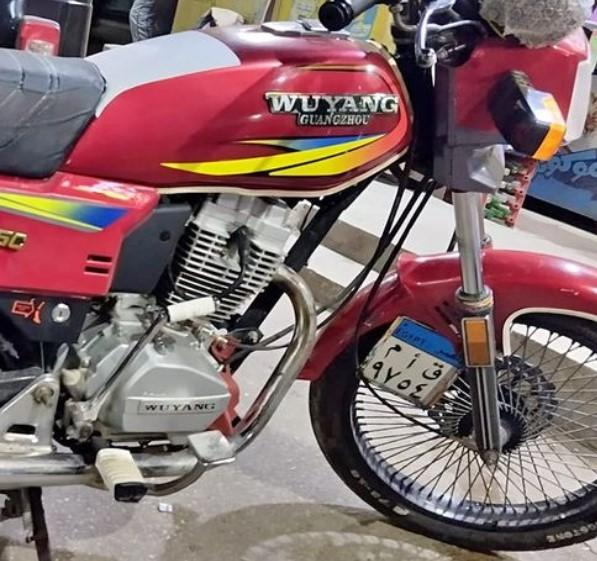License Plate: (359, 315, 473, 404)
